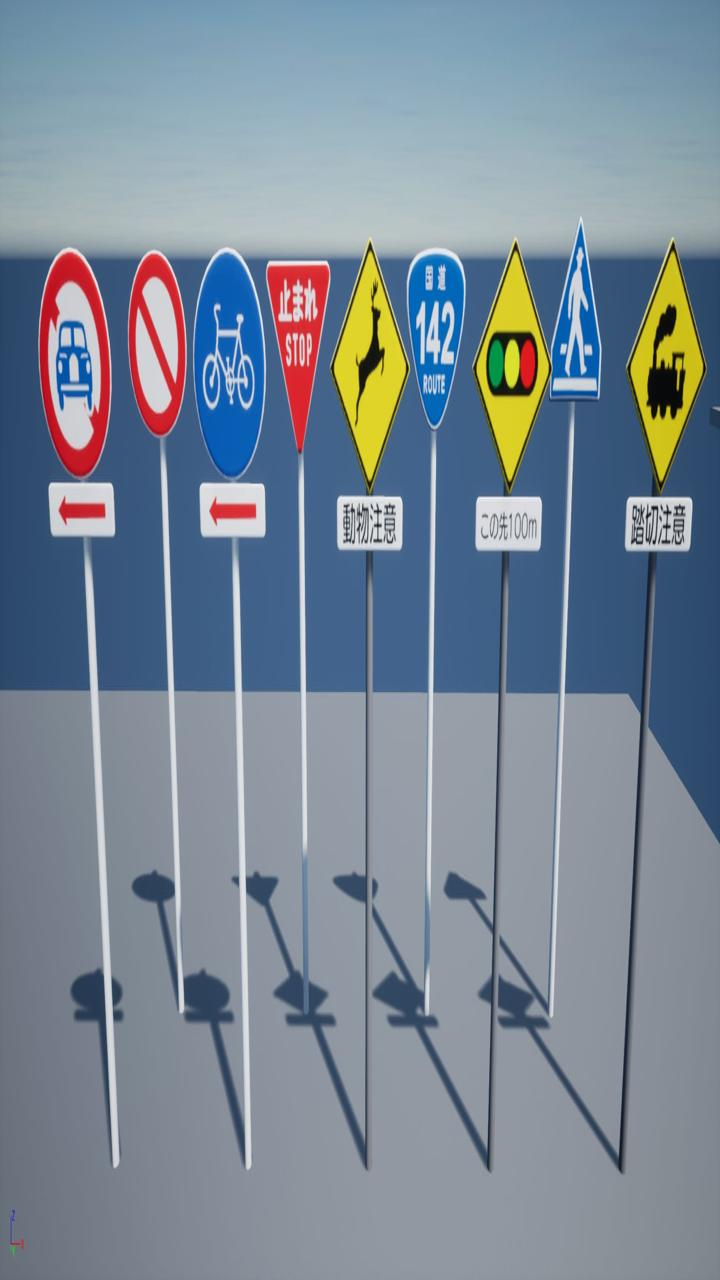Traffic sign: (330, 244, 418, 563), (20, 245, 131, 475), (188, 247, 278, 483), (467, 243, 548, 497), (126, 252, 198, 499), (552, 236, 619, 447), (44, 477, 127, 553), (189, 478, 272, 554)
